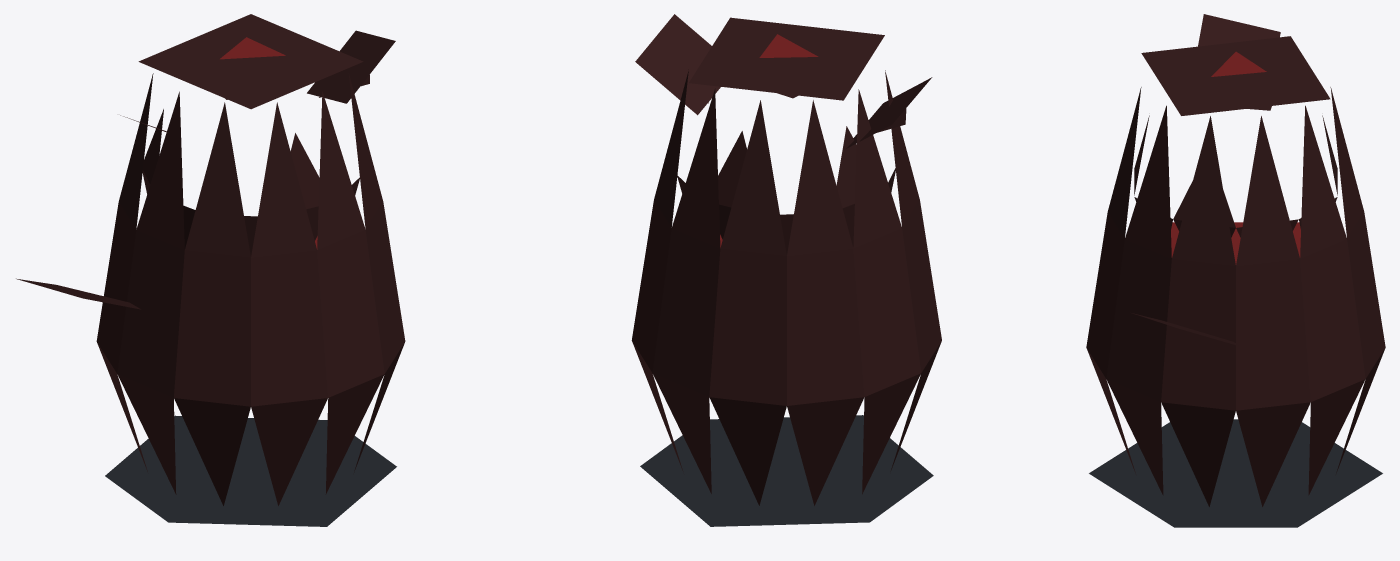
Rendered from sith-warrior-robe.lod.glb.
3 renders of one model, left to right at view 1: azimuth 30°, elevation 25°; view 2: azimuth 150°, elevation 25°; view 3: azimuth 270°, elevation 25°, orthographic. The views are drawn at different scales.
Parts seen in each view (by area): view 1: m; view 2: m; view 3: m.
Boxes of the visible parts, x1,y1,x2,y2 form: m: [16, 14, 405, 526]; m: [631, 14, 941, 526]; m: [1086, 14, 1385, 527].
Bounding box in the file's own units: 0.4658 × 0.4107 × 0.2613.
